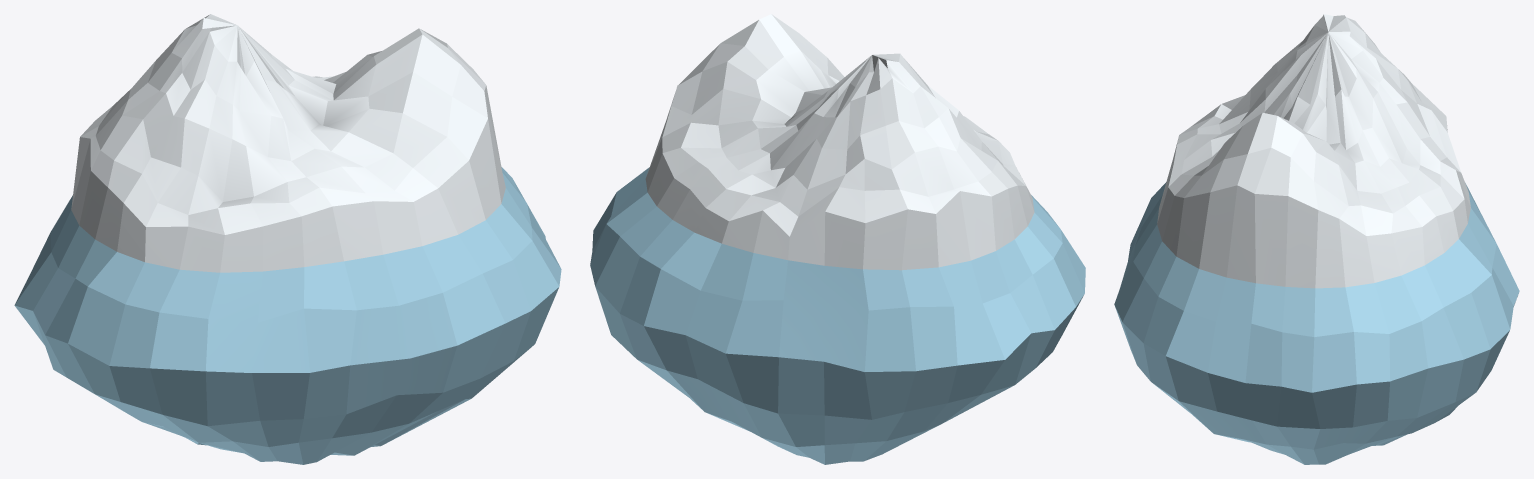
File: iceberg-b.glb
The picture shows the model from 3 angles, left to right: view 1: azimuth 30°, elevation 25°; view 2: azimuth 150°, elevation 25°; view 3: azimuth 270°, elevation 25°; orthographic projection. The views are drawn at different scales.
Visible parts, largest first — view 1: under, top; view 2: under, top; view 3: under, top.
Part boxes in pixels (x1,y1,x2,y2): under: (14,167,561,464); top: (71,14,505,272); under: (590,167,1085,464); top: (645,14,1034,270); under: (1114,182,1519,464); top: (1157,14,1470,288).
Size of the model in its own units: 7.7 by 6.72 by 6.2.
